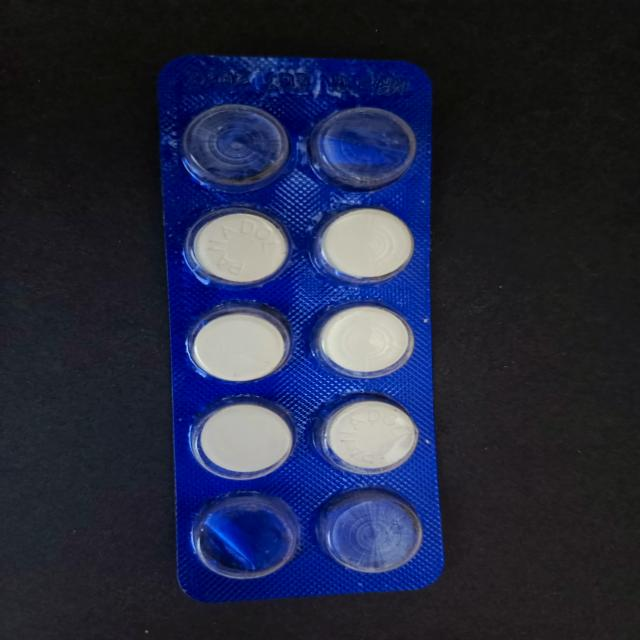defect: (176, 100, 294, 194), (185, 492, 304, 584), (302, 102, 420, 193), (311, 487, 429, 577)
